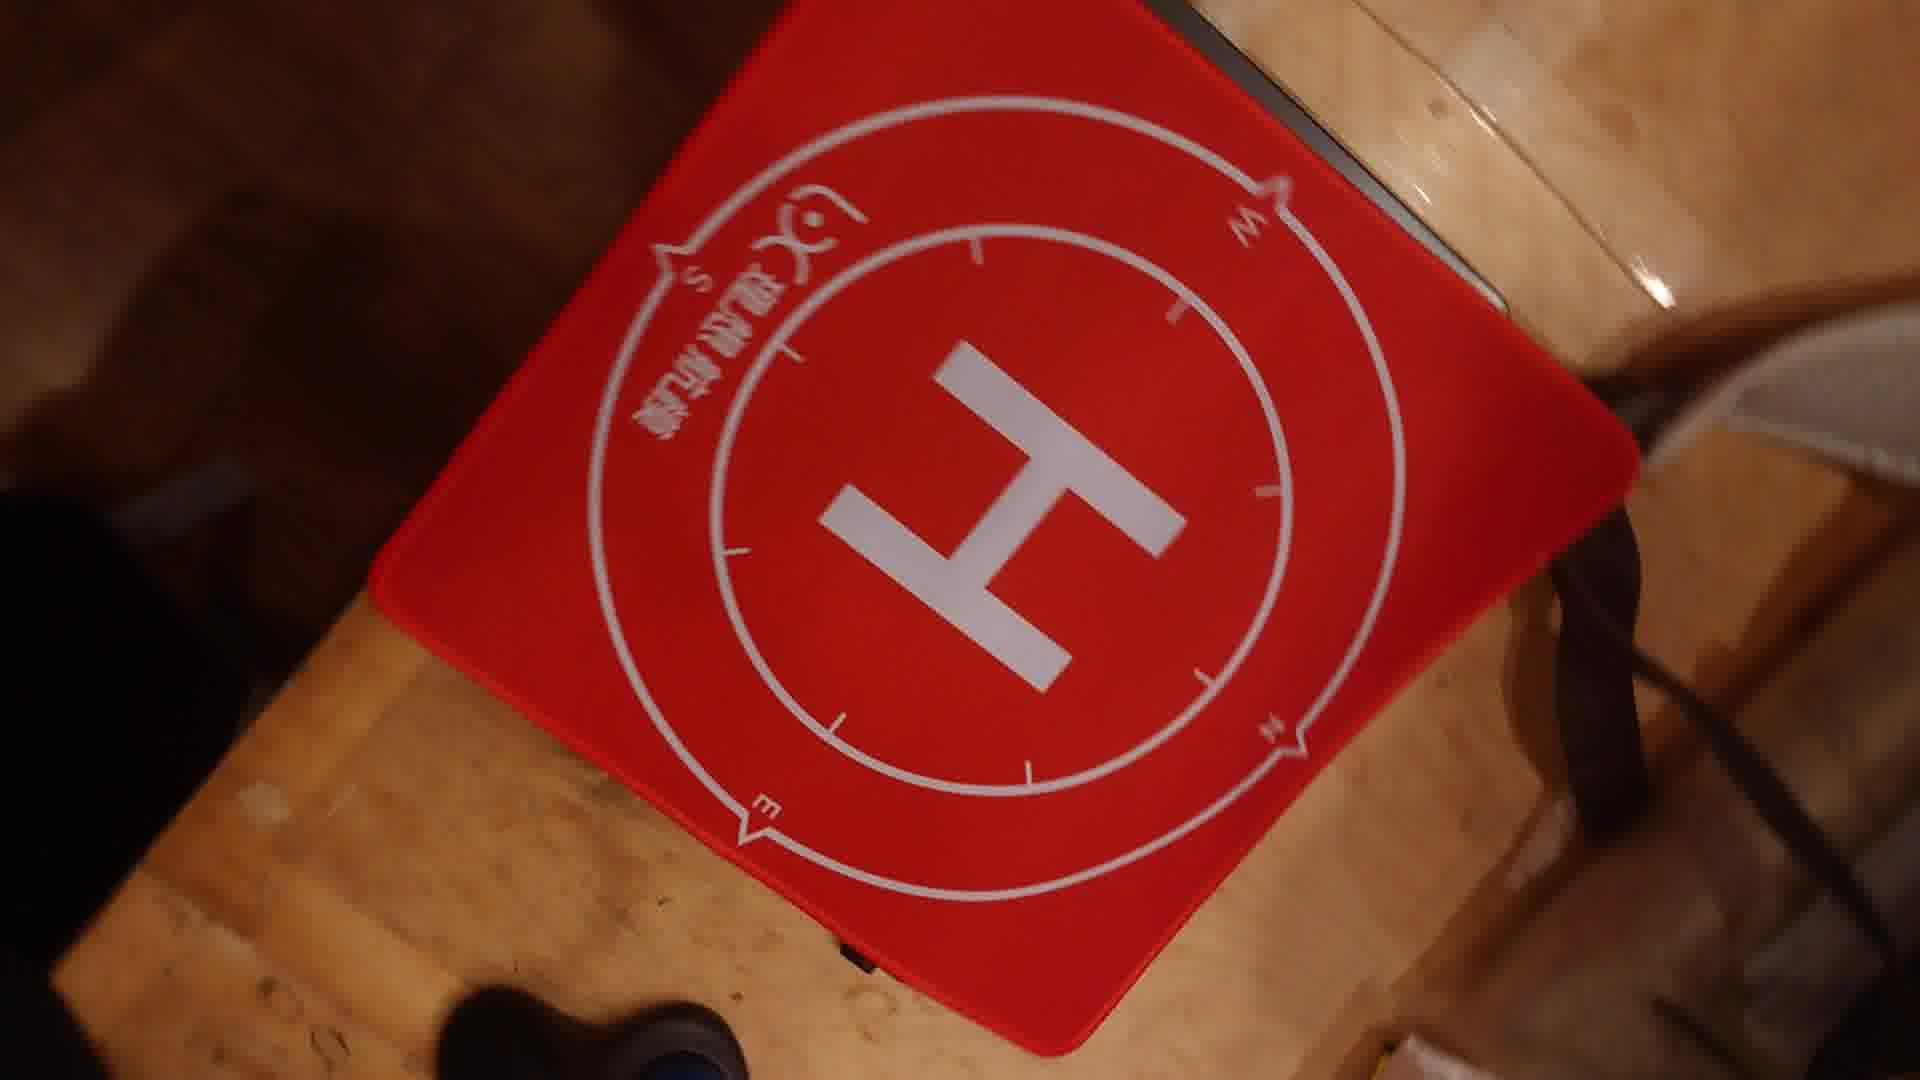H: (814, 342, 1189, 694)
